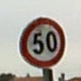limite 50: (18, 15, 66, 67)
